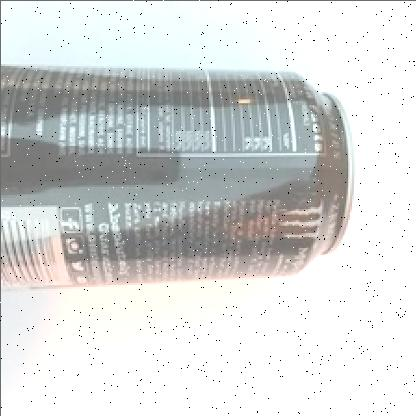Can: (0, 63, 354, 285)
